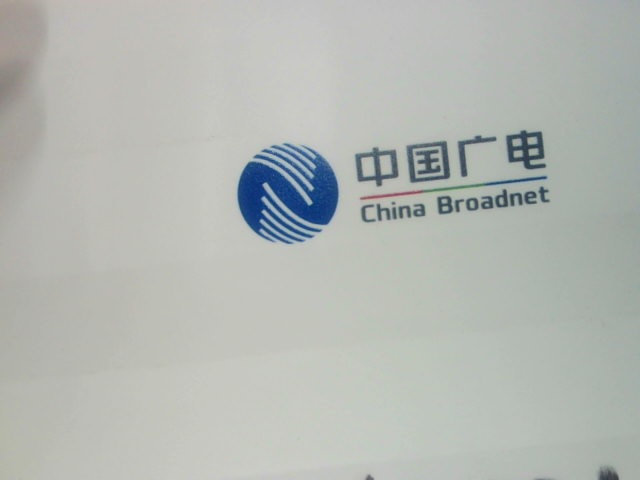AW_ChinaBroadNet: (232, 127, 570, 247)
